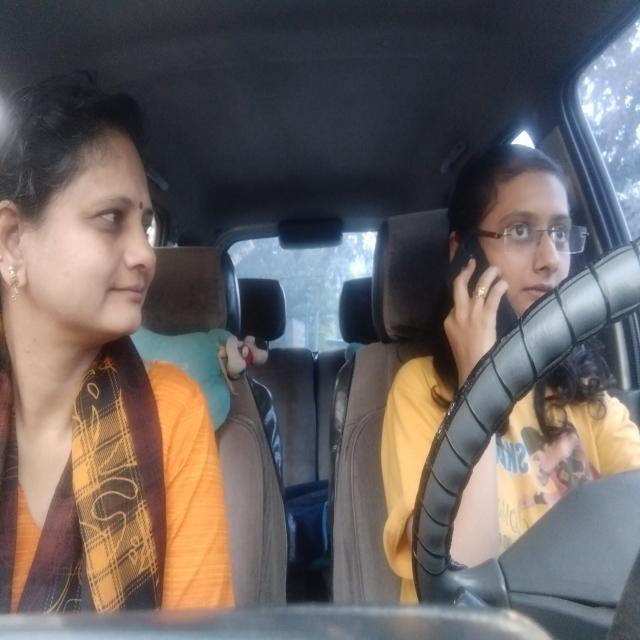mobile: (439, 239, 526, 376)
person: (2, 85, 167, 346), (446, 135, 582, 327)
